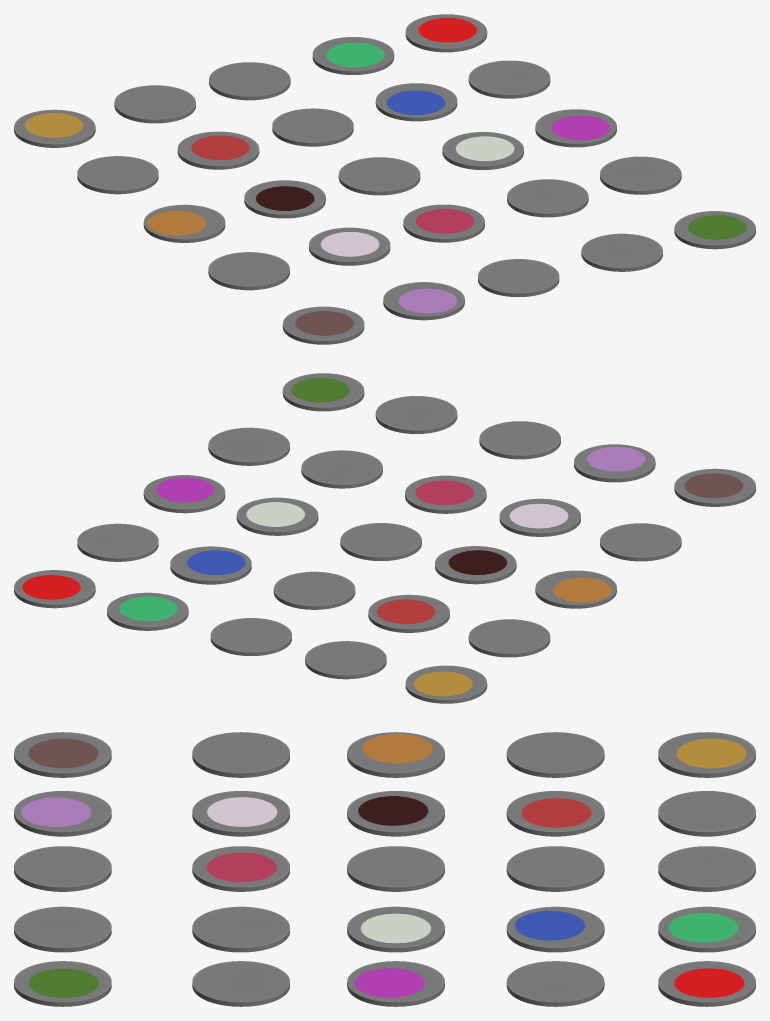
The model's file is Reference_Button_3D_Model.fbx.
3 views of the same model, one above another, from view 1: azimuth 30°, elevation 25°; view 2: azimuth 150°, elevation 25°; view 3: azimuth 270°, elevation 25° (orthographic). The views are drawn at different scales.
Parts seen in each view (by area): view 1: SM_CarlosSA_ButtonStyle_Exemple_006, SM_CarlosSA_ButtonStyle_Exemple_002, SM_CarlosSA_ButtonStyle_Exemple_009, SM_CarlosSA_ButtonStyle_Exemple_011, SM_CarlosSA_ButtonStyle_Exemple_008, SM_CarlosSA_ButtonStyle_Exemple_005, SM_CarlosSA_ButtonStyle_Exemple_020, SM_CarlosSA_ButtonStyle_Exemple_022, SM_CarlosSA_ButtonStyle_Exemple_007, SM_CarlosSA_ButtonStyle_Exemple_017, SM_CarlosSA_ButtonStyle_Exemple_003, SM_CarlosSA_ButtonStyle_Exemple_015 (+13 smaller); view 2: SM_CarlosSA_ButtonStyle_Exemple_010, SM_CarlosSA_ButtonStyle_Exemple_023, SM_CarlosSA_ButtonStyle_Exemple_012, SM_CarlosSA_ButtonStyle_Exemple_007, SM_CarlosSA_ButtonStyle_Exemple_016, SM_CarlosSA_ButtonStyle_Exemple_001, SM_CarlosSA_ButtonStyle_Exemple_021, SM_CarlosSA_ButtonStyle_Exemple_018, SM_CarlosSA_ButtonStyle_Exemple_024, SM_CarlosSA_ButtonStyle_Exemple_014, SM_CarlosSA_ButtonStyle_Exemple_004, SM_CarlosSA_ButtonStyle_Exemple_008 (+13 smaller); view 3: SM_CarlosSA_ButtonStyle_Exemple_008, SM_CarlosSA_ButtonStyle_Exemple_012, SM_CarlosSA_ButtonStyle_Exemple_016, SM_CarlosSA_ButtonStyle_Exemple_007, SM_CarlosSA_ButtonStyle_Exemple_004, SM_CarlosSA_ButtonStyle_Exemple_009, SM_CarlosSA_ButtonStyle_Exemple_010, SM_CarlosSA_ButtonStyle_Exemple_025, SM_CarlosSA_ButtonStyle_Exemple_006, SM_CarlosSA_ButtonStyle_Exemple_011, SM_CarlosSA_ButtonStyle_Exemple_013, SM_CarlosSA_ButtonStyle_Exemple_014 (+13 smaller).
Boxes of the visible parts, x1,y1,x2,y2 form: SM_CarlosSA_ButtonStyle_Exemple_006: [177, 131, 259, 169]; SM_CarlosSA_ButtonStyle_Exemple_002: [114, 85, 195, 123]; SM_CarlosSA_ButtonStyle_Exemple_009: [468, 60, 550, 98]; SM_CarlosSA_ButtonStyle_Exemple_011: [338, 157, 420, 195]; SM_CarlosSA_ButtonStyle_Exemple_008: [375, 83, 457, 121]; SM_CarlosSA_ButtonStyle_Exemple_005: [405, 14, 487, 52]; SM_CarlosSA_ButtonStyle_Exemple_020: [403, 204, 484, 242]; SM_CarlosSA_ButtonStyle_Exemple_022: [282, 306, 364, 344]; SM_CarlosSA_ButtonStyle_Exemple_007: [272, 108, 353, 146]; SM_CarlosSA_ButtonStyle_Exemple_017: [600, 156, 681, 194]; SM_CarlosSA_ButtonStyle_Exemple_003: [209, 62, 290, 100]; SM_CarlosSA_ButtonStyle_Exemple_015: [244, 180, 325, 218]; SM_CarlosSA_ButtonStyle_Exemple_010: [468, 619, 550, 657]; SM_CarlosSA_ButtonStyle_Exemple_023: [574, 444, 655, 482]; SM_CarlosSA_ButtonStyle_Exemple_012: [236, 497, 318, 535]; SM_CarlosSA_ButtonStyle_Exemple_007: [273, 571, 355, 609]; SM_CarlosSA_ButtonStyle_Exemple_016: [301, 450, 382, 488]; SM_CarlosSA_ButtonStyle_Exemple_001: [405, 665, 487, 703]; SM_CarlosSA_ButtonStyle_Exemple_021: [282, 373, 364, 411]; SM_CarlosSA_ButtonStyle_Exemple_018: [600, 523, 681, 561]; SM_CarlosSA_ButtonStyle_Exemple_024: [479, 421, 560, 459]; SM_CarlosSA_ButtonStyle_Exemple_014: [535, 570, 616, 608]; SM_CarlosSA_ButtonStyle_Exemple_004: [107, 592, 188, 630]; SM_CarlosSA_ButtonStyle_Exemple_008: [170, 546, 251, 584]; SM_CarlosSA_ButtonStyle_Exemple_008: [506, 906, 604, 952]; SM_CarlosSA_ButtonStyle_Exemple_012: [347, 906, 444, 952]; SM_CarlosSA_ButtonStyle_Exemple_016: [192, 906, 289, 952]; SM_CarlosSA_ButtonStyle_Exemple_007: [506, 846, 604, 891]; SM_CarlosSA_ButtonStyle_Exemple_004: [658, 906, 755, 952]; SM_CarlosSA_ButtonStyle_Exemple_009: [506, 961, 604, 1006]; SM_CarlosSA_ButtonStyle_Exemple_010: [506, 732, 604, 777]; SM_CarlosSA_ButtonStyle_Exemple_025: [14, 906, 111, 952]; SM_CarlosSA_ButtonStyle_Exemple_006: [506, 791, 604, 836]; SM_CarlosSA_ButtonStyle_Exemple_011: [347, 846, 444, 891]; SM_CarlosSA_ButtonStyle_Exemple_013: [347, 961, 444, 1006]; SM_CarlosSA_ButtonStyle_Exemple_014: [347, 732, 444, 777].
Size of the model in its own units: 26.16 by 0.2 by 30.35.
1 material, 1 textured.
